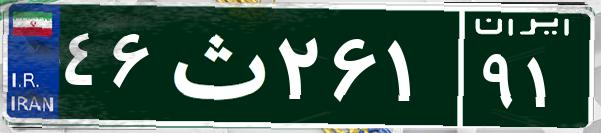1: (385, 28, 445, 110), (525, 38, 570, 115)
2: (273, 28, 330, 110)
4: (57, 26, 110, 107)
6: (330, 28, 385, 110), (110, 28, 158, 105)
9: (475, 38, 525, 113)
ث: (158, 15, 273, 115)
